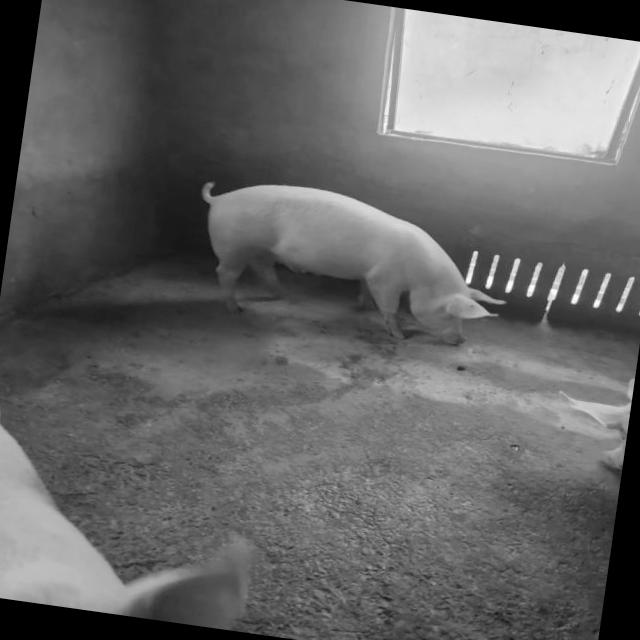pig: (0, 425, 251, 629), (202, 182, 502, 345)
